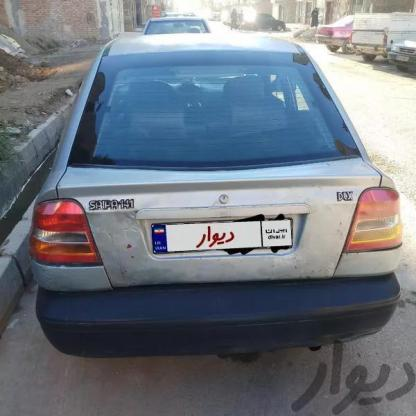Car: (0, 44, 400, 342), (130, 5, 204, 50), (309, 18, 367, 74), (346, 16, 416, 61), (385, 26, 416, 80)
